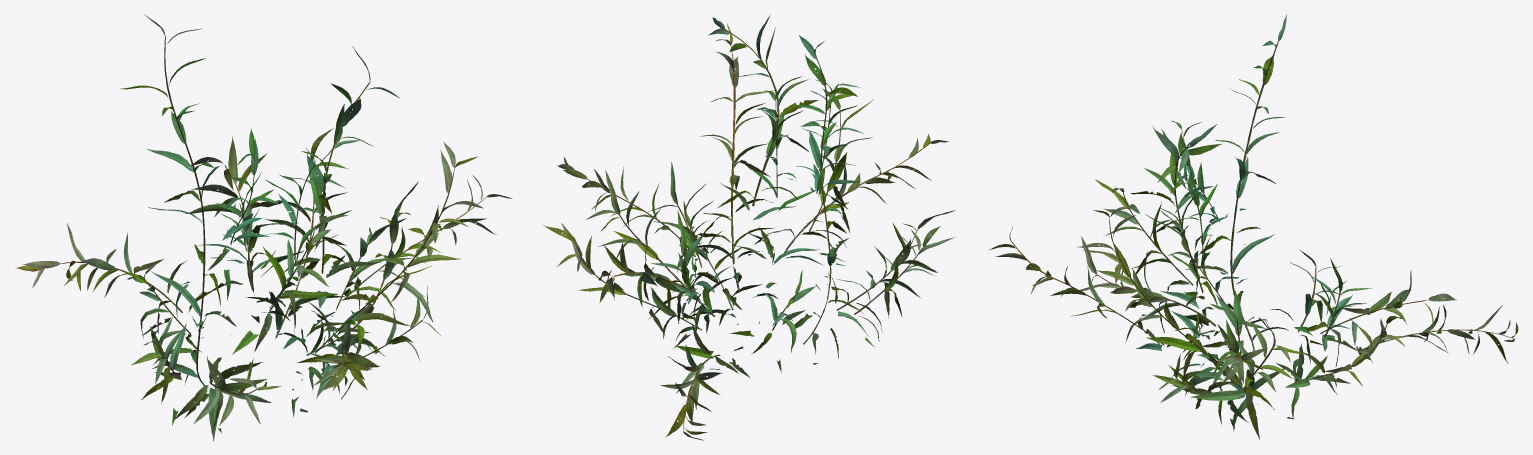
The model's file is shrub_02.gltf.
3 renders of one model, left to right at view 1: azimuth 30°, elevation 25°; view 2: azimuth 150°, elevation 25°; view 3: azimuth 270°, elevation 25°, orthographic. The views are drawn at different scales.
Parts seen in each view (by area): view 1: shrub_02_a, shrub_02_c, shrub_02_b, shrub_02_d; view 2: shrub_02_a, shrub_02_c, shrub_02_b, shrub_02_d; view 3: shrub_02_a, shrub_02_b, shrub_02_c, shrub_02_d.
Boxes of the visible parts, bbox=[...] form: shrub_02_a: bbox=[120, 14, 483, 433]; shrub_02_c: bbox=[15, 128, 512, 425]; shrub_02_b: bbox=[154, 46, 406, 440]; shrub_02_d: bbox=[123, 127, 440, 417]; shrub_02_a: bbox=[586, 23, 873, 364]; shrub_02_c: bbox=[557, 79, 953, 440]; shrub_02_b: bbox=[648, 15, 955, 358]; shrub_02_d: bbox=[543, 82, 819, 373]; shrub_02_a: bbox=[1076, 14, 1456, 439]; shrub_02_b: bbox=[1079, 124, 1372, 410]; shrub_02_c: bbox=[988, 120, 1518, 385]; shrub_02_d: bbox=[1152, 164, 1407, 428].
Size of the model in its own units: 1.77 by 1.7 by 2.29.
1 material, 1 textured.
